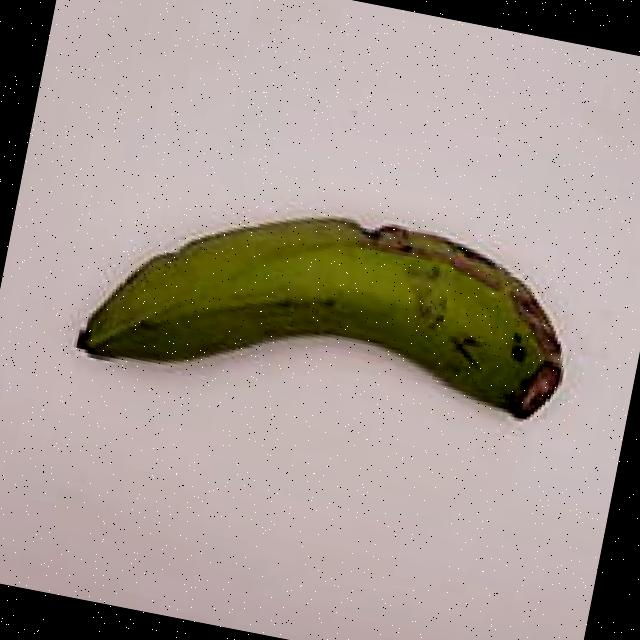Raw: (34, 120, 616, 515)
